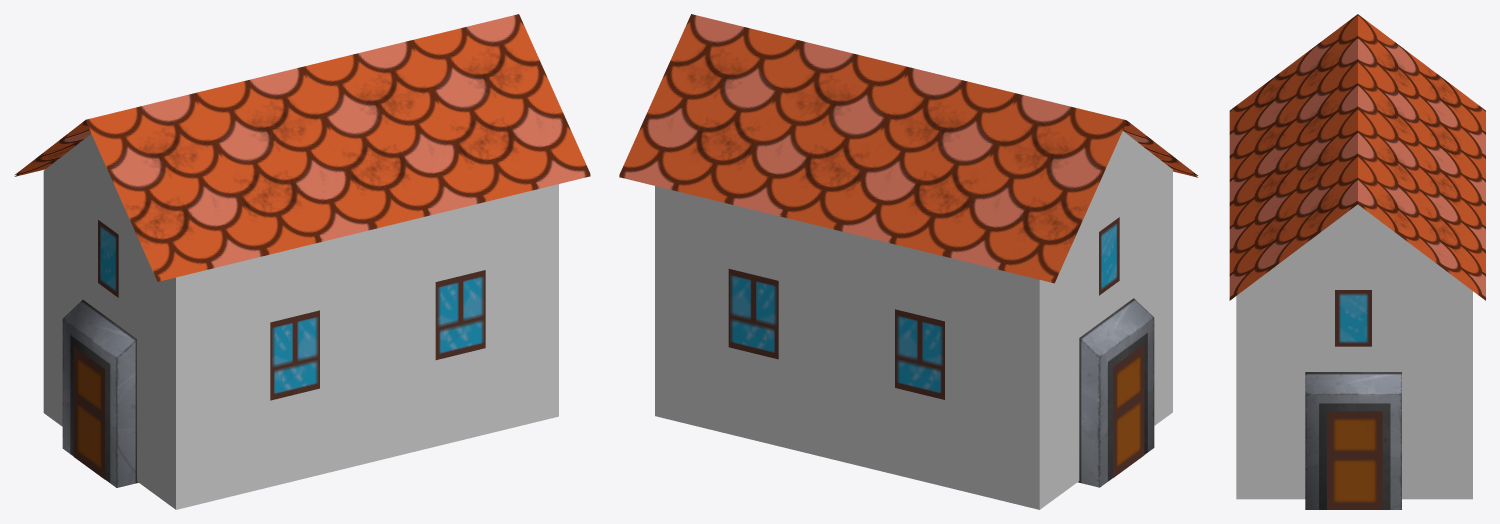
The model's file is home1.fbx.
3 renders of one model, left to right at view 1: azimuth 30°, elevation 25°; view 2: azimuth 150°, elevation 25°; view 3: azimuth 270°, elevation 25°, orthographic. The views are drawn at different scales.
Parts seen in each view (by area): view 1: Cube.001; view 2: Cube.001; view 3: Cube.001.
Boxes of the visible parts, x1,y1,x2,y2 form: Cube.001: (14, 14, 590, 509); Cube.001: (619, 14, 1197, 509); Cube.001: (1229, 14, 1485, 509).
Bounding box in the file's own units: 235 × 180 × 136.
